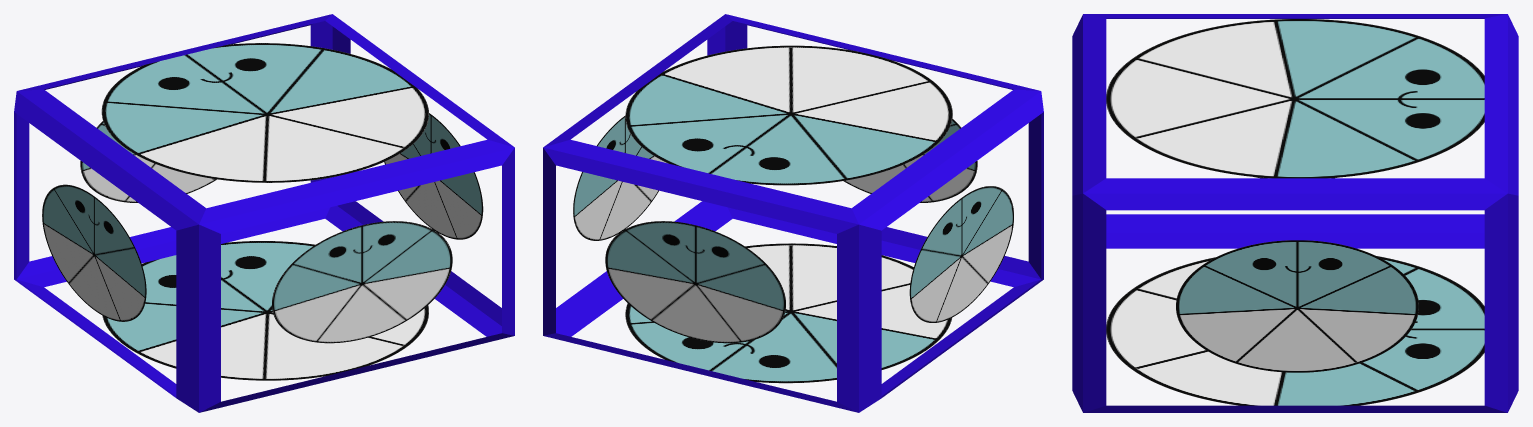
The model's file is Fracciones cuatro septimos.fbx.
3 views of the same model, side by side, from view 1: azimuth 30°, elevation 25°; view 2: azimuth 150°, elevation 25°; view 3: azimuth 270°, elevation 25° (orthographic). The views are drawn at different scales.
Parts seen in each view (by area): view 1: 4/7; view 2: 4/7; view 3: 4/7.
Boxes of the visible parts, left/top/right/bottom form: 4/7: left=14, top=14, right=514, bottom=412; 4/7: left=543, top=14, right=1043, bottom=412; 4/7: left=1072, top=14, right=1518, bottom=412.
Bounding box in the file's own units: 213 × 120 × 210.
Materials: 2 (1 with a texture image).
